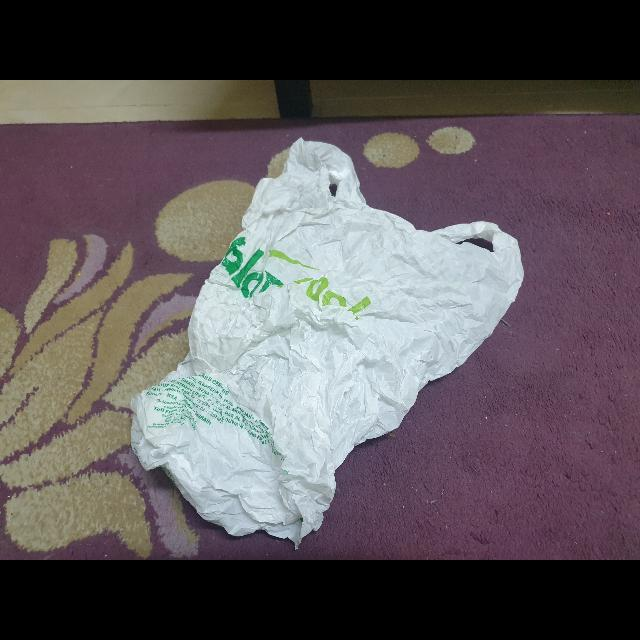plastic_bag: (128, 135, 526, 552)
